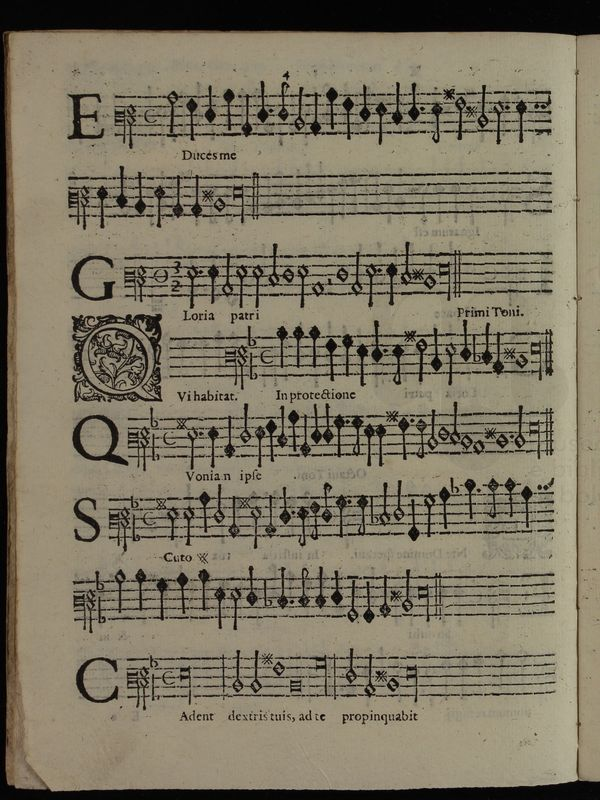Imin: (254, 342, 278, 369)
barline: (540, 319, 556, 384)
f clef_7: (217, 341, 246, 390)
flat_11: (244, 353, 260, 386)
flat_4: (241, 321, 257, 352)
flat_8: (469, 331, 482, 367)
fusa_6: (388, 335, 406, 391)
longa_6: (528, 331, 545, 376)
minim_5: (413, 335, 428, 385)
minim_6: (442, 334, 457, 386)
point: (377, 341, 391, 359)
semibreve_9: (513, 351, 532, 373)
semiminim_10: (492, 325, 506, 382)
semiminim_2: (307, 319, 323, 373), (274, 321, 288, 373), (291, 321, 304, 372)
semiminim_4: (339, 328, 355, 380)
semiminim_5: (322, 331, 339, 384)
semiminim_6: (354, 335, 370, 389)
semiminim_7: (368, 315, 384, 368), (458, 314, 472, 367)
semiminim_8: (480, 317, 493, 370)
semiminim_9: (429, 322, 444, 378)
sharp: (397, 321, 420, 345), (502, 338, 521, 363), (497, 342, 516, 363)
